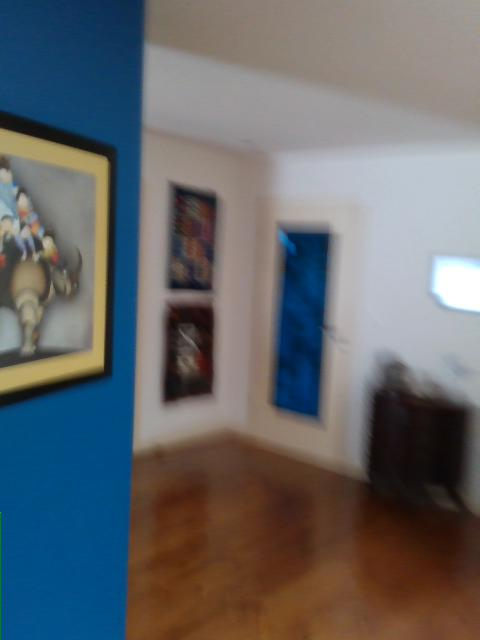door: (251, 196, 359, 472)
